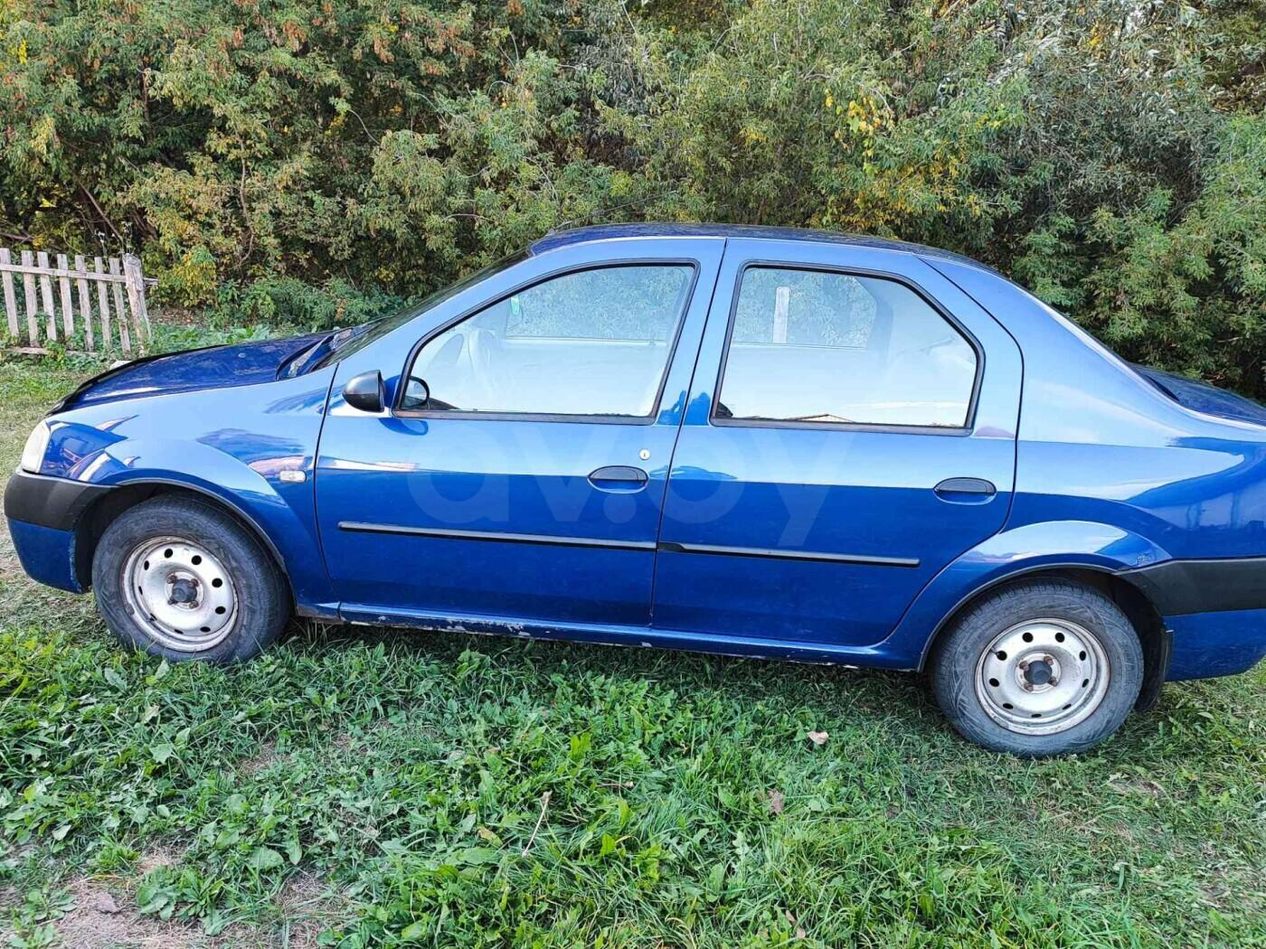Logan_2004-2009: (0, 221, 1266, 754)
